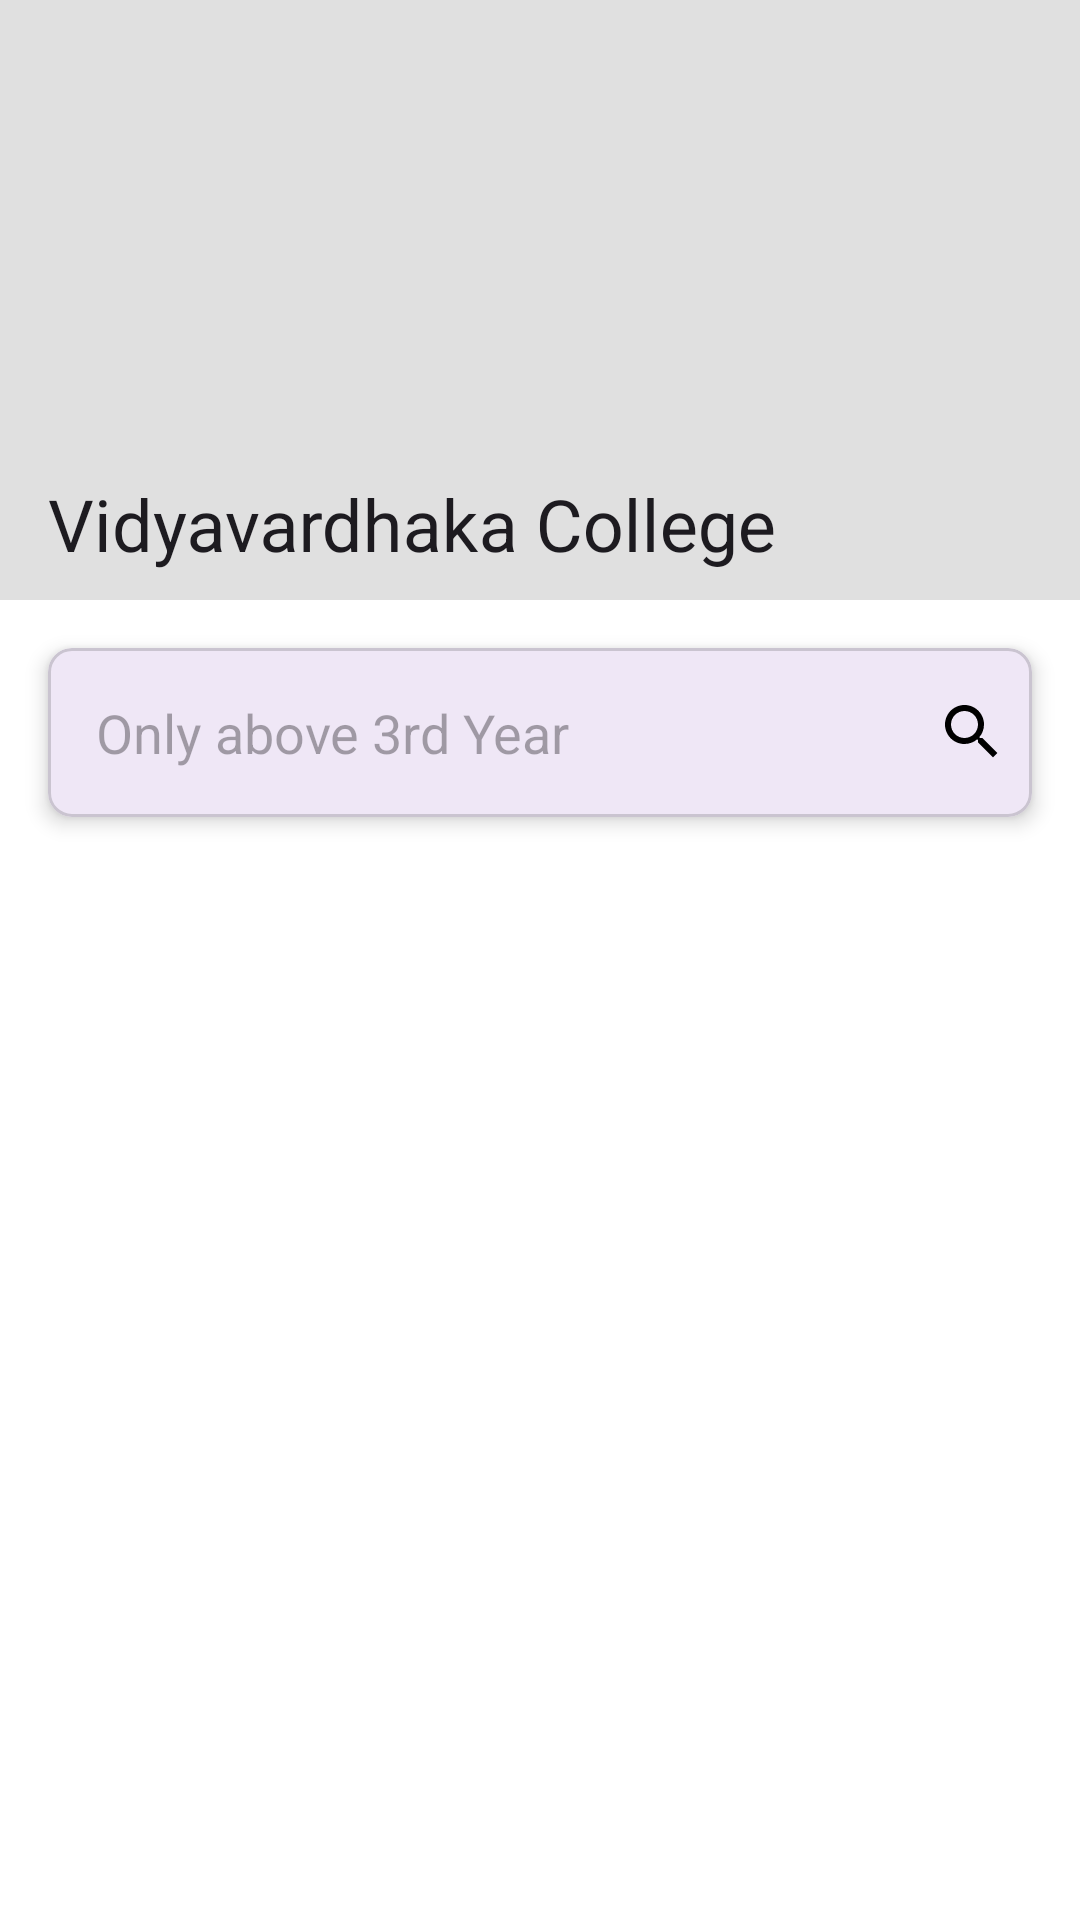

Icons on this 1080×1920 Android screen, each with the point to tap as [x,y]:
search: [971,731]
